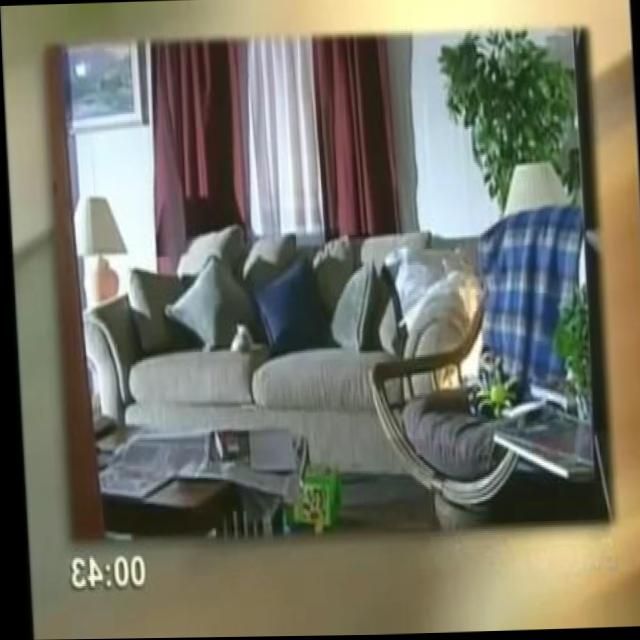fire: (427, 271, 491, 393)
